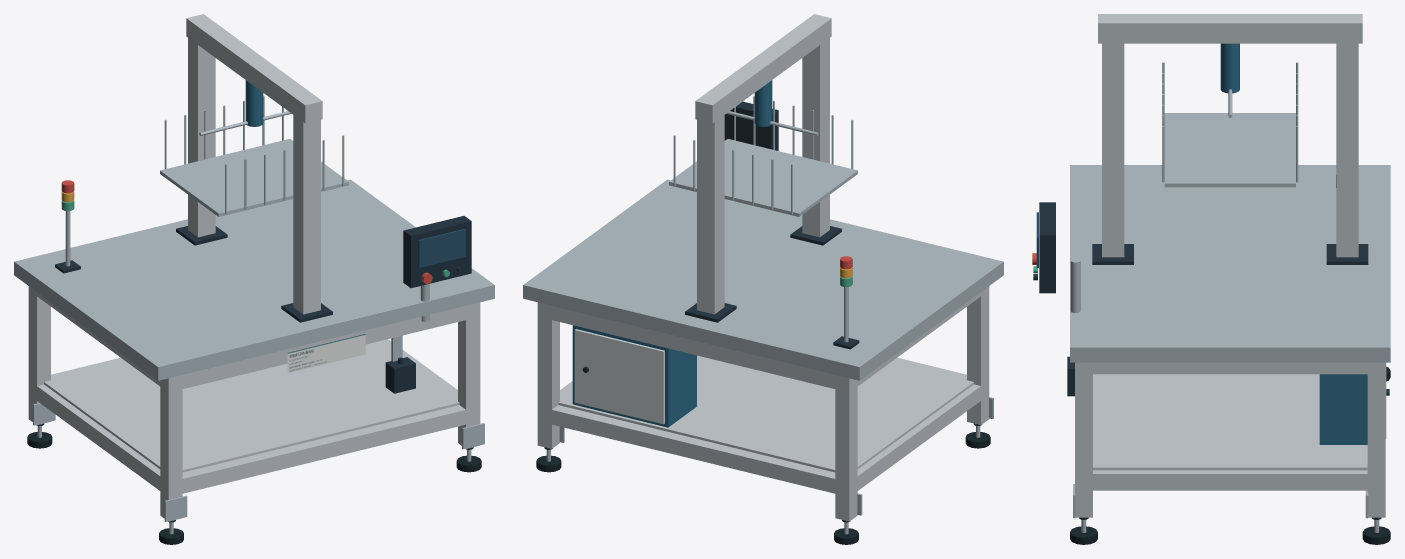
Rendered from print-wash-cell.glb.
3 views of the same model, side by side, from view 1: azimuth 30°, elevation 25°; view 2: azimuth 150°, elevation 25°; view 3: azimuth 270°, elevation 25° (orthographic). The views are drawn at different scales.
Parts seen in each view (by area): view 1: ClosedMachineBed_28, LowerShelf_29, BasketBottom_53, SlottedExtrusion_22, SlottedExtrusion_50, SlottedExtrusion_52, SlottedExtrusion_48, SlottedExtrusion_23, SlottedExtrusion_8, SlottedExtrusion_24, ConsoleBack_34, SlottedExtrusion_18 (+6 smaller); view 2: ClosedMachineBed_28, LowerShelf_29, BackDoor_31, BasketBottom_53, SlottedExtrusion_20, SlottedExtrusion_48, SlottedExtrusion_52, SlottedExtrusion_21, SlottedExtrusion_50, SlottedExtrusion_3, Cabinet_30, SlottedExtrusion_13 (+5 smaller); view 3: ClosedMachineBed_28, LowerShelf_29, BasketBottom_53, SlottedExtrusion_52, SlottedExtrusion_26, SlottedExtrusion_50, SlottedExtrusion_48, SlottedExtrusion_27, Cabinet_30, SlottedExtrusion_13, SlottedExtrusion_18, ConsoleBack_34 (+6 smaller).
Part boxes in pixels (x1,y1,x2,y2): ClosedMachineBed_28: (14, 179, 494, 380); LowerShelf_29: (44, 340, 459, 472); BasketBottom_53: (160, 139, 348, 216); SlottedExtrusion_22: (175, 405, 465, 493); SlottedExtrusion_50: (293, 106, 320, 314); SlottedExtrusion_52: (186, 14, 322, 123); SlottedExtrusion_48: (188, 32, 215, 237); SlottedExtrusion_23: (175, 306, 465, 390); SlottedExtrusion_8: (160, 375, 182, 521); SlottedExtrusion_24: (33, 384, 160, 490); ConsoleBack_34: (403, 216, 471, 288); SlottedExtrusion_18: (458, 302, 480, 448); ClosedMachineBed_28: (523, 179, 1003, 380); LowerShelf_29: (558, 355, 973, 472); BackDoor_31: (574, 329, 664, 424); BasketBottom_53: (669, 139, 857, 216); SlottedExtrusion_20: (544, 405, 842, 494); SlottedExtrusion_48: (697, 106, 724, 314); SlottedExtrusion_52: (695, 14, 831, 123); SlottedExtrusion_21: (544, 304, 842, 390); SlottedExtrusion_50: (802, 29, 829, 237); SlottedExtrusion_3: (835, 375, 857, 521); Cabinet_30: (572, 325, 696, 427); SlottedExtrusion_13: (537, 302, 559, 448); ClosedMachineBed_28: (1070, 165, 1390, 362); LowerShelf_29: (1093, 374, 1367, 470); BasketBottom_53: (1164, 113, 1295, 187); SlottedExtrusion_52: (1098, 14, 1362, 43); SlottedExtrusion_26: (1084, 470, 1376, 490); SlottedExtrusion_50: (1102, 33, 1124, 257); SlottedExtrusion_48: (1336, 33, 1358, 257); SlottedExtrusion_27: (1084, 362, 1376, 374); Cabinet_30: (1319, 374, 1367, 444); SlottedExtrusion_13: (1367, 362, 1385, 517); SlottedExtrusion_18: (1075, 362, 1092, 517); ConsoleBack_34: (1039, 202, 1055, 293).
Size of the model in its own units: 1.55 by 1.74 by 1.29.
Materials: 11 (1 with a texture image).
